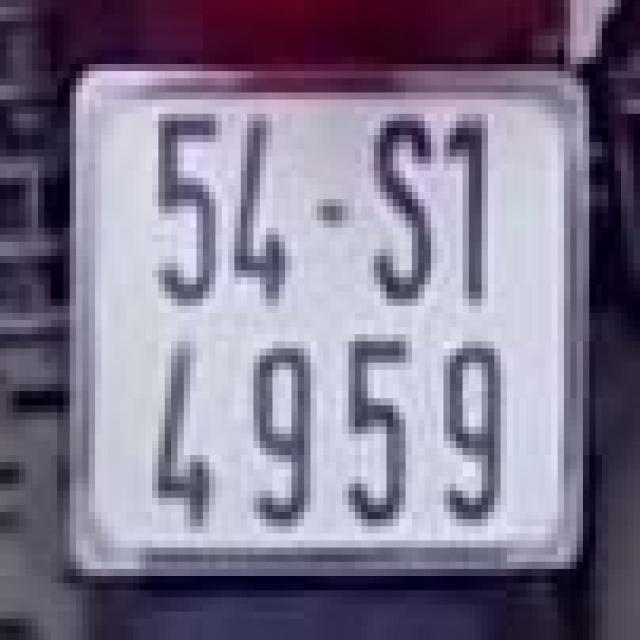1: (434, 92, 491, 306)
4: (225, 100, 295, 306), (146, 323, 215, 530)
5: (339, 323, 421, 537), (136, 110, 219, 316)
9: (241, 327, 329, 541), (437, 327, 520, 541)
S: (361, 92, 437, 306)
